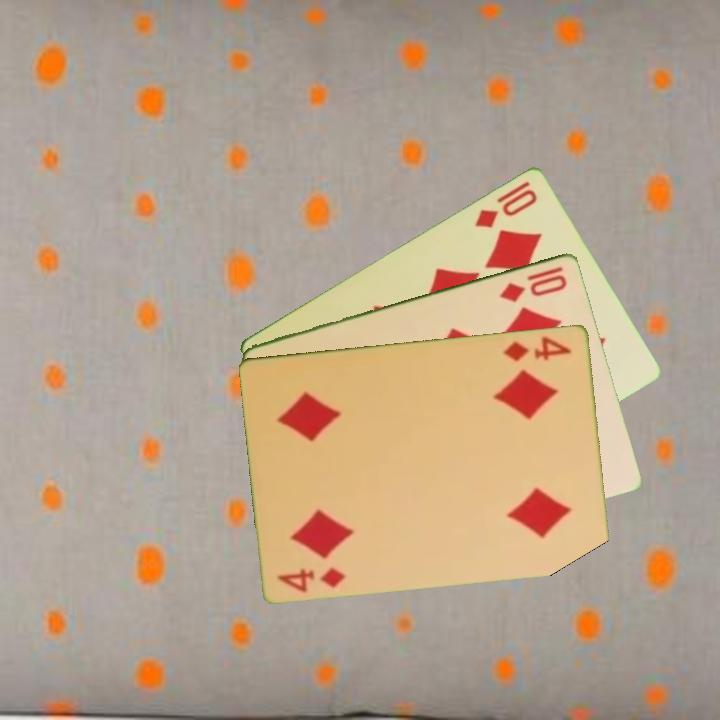10d: (470, 184, 541, 231), (496, 262, 570, 305)
4d: (500, 332, 574, 364), (273, 563, 349, 594)
